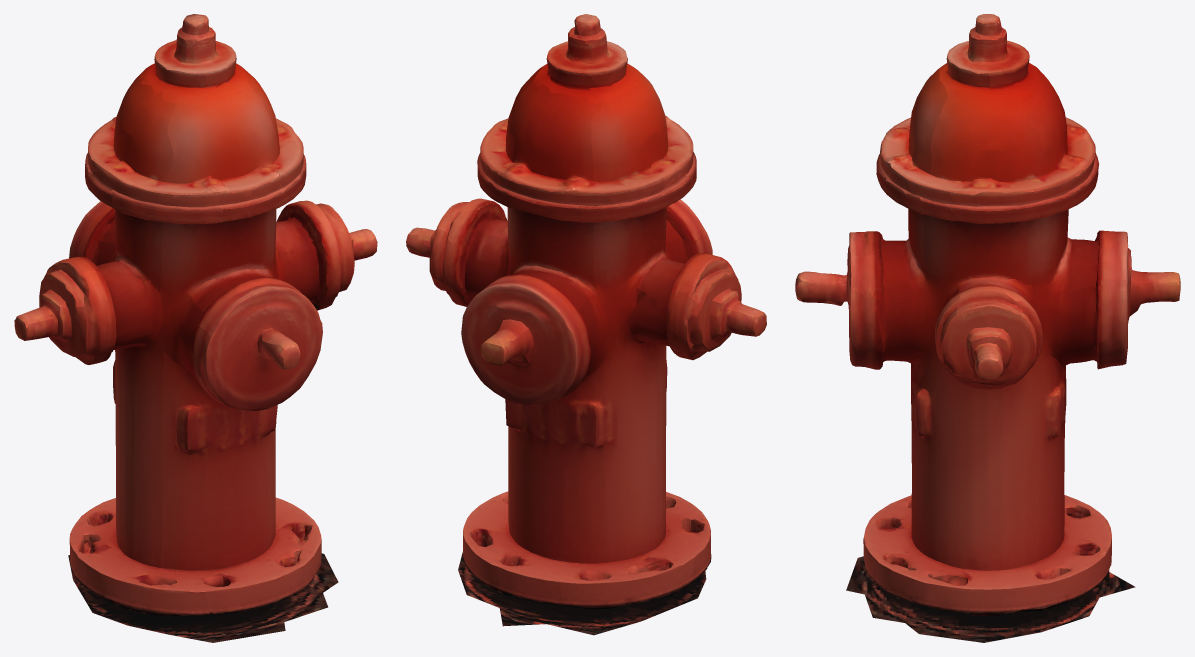
The model's file is fire-hydrant.glb.
3 renders of one model, left to right at view 1: azimuth 30°, elevation 25°; view 2: azimuth 150°, elevation 25°; view 3: azimuth 270°, elevation 25°, orthographic.
Visible parts, largest first — view 1: geometry_0; view 2: geometry_0; view 3: geometry_0.
Part boxes in pixels (<box>): geometry_0: <box>14,14,377,642</box>; geometry_0: <box>406,14,766,635</box>; geometry_0: <box>795,14,1180,642</box>.
Bounding box in the file's own units: 0.3193 × 0.4869 × 0.3012.
Materials: 1 (1 with a texture image).
